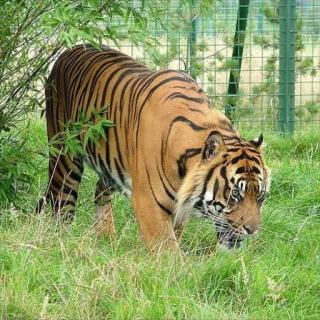Tiger: (39, 25, 290, 274)
